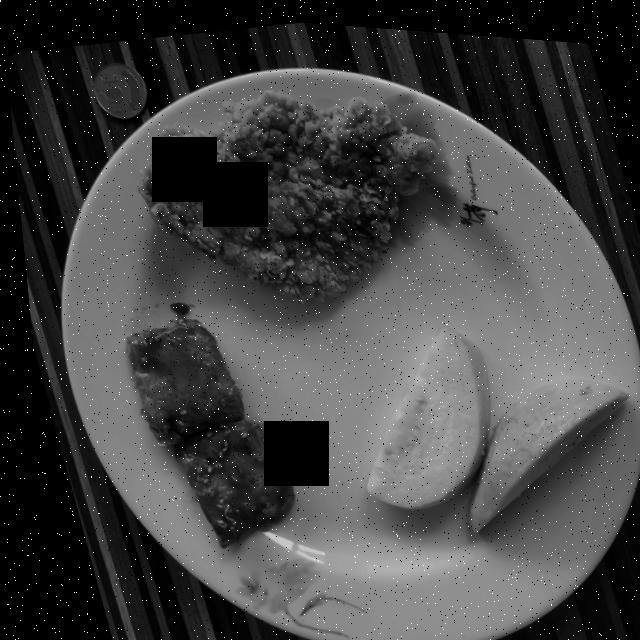coin: (91, 60, 145, 116)
creamy tofu: (119, 313, 284, 543)
fried chicken cutlet: (133, 85, 435, 297)
guava -sliced-: (357, 317, 621, 524)
